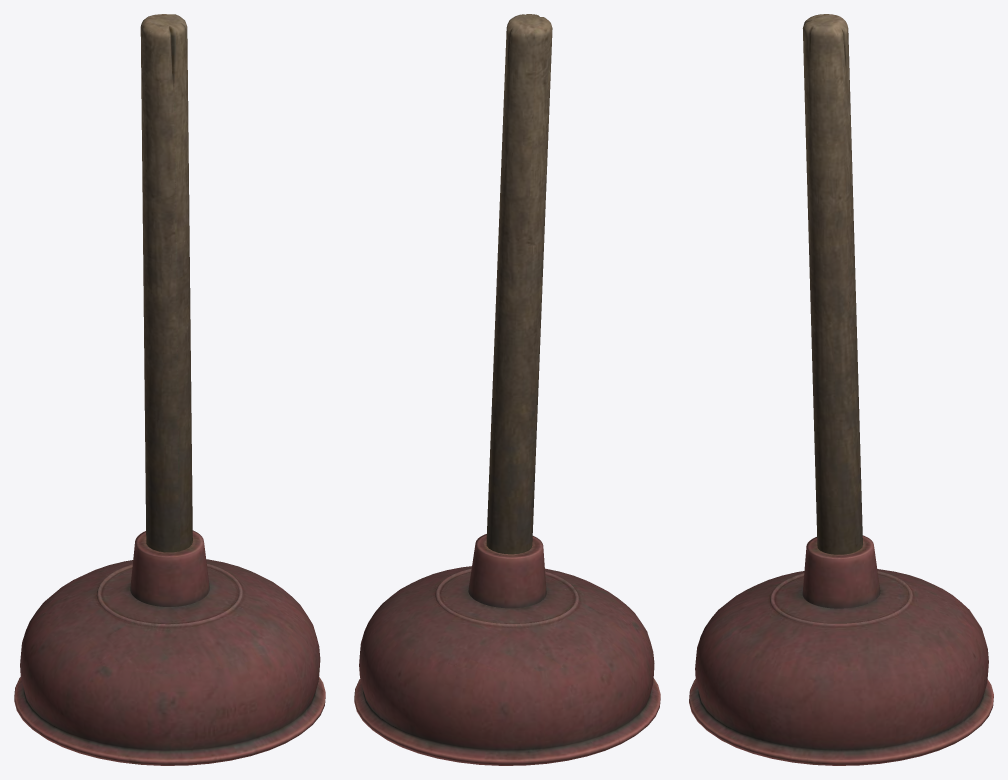
The model's file is plunger.glb.
3 renders of one model, left to right at view 1: azimuth 30°, elevation 25°; view 2: azimuth 150°, elevation 25°; view 3: azimuth 270°, elevation 25°, orthographic. The views are drawn at different scales.
Visible parts, largest first — view 1: plunger; view 2: plunger; view 3: plunger.
Boxes of the visible parts, left/top/right/bottom form: plunger: left=14, top=14, right=325, bottom=765; plunger: left=354, top=14, right=660, bottom=765; plunger: left=689, top=14, right=993, bottom=765.
Bounding box in the file's own units: 0.1721 × 0.4211 × 0.1721.
1 material, 1 textured.
